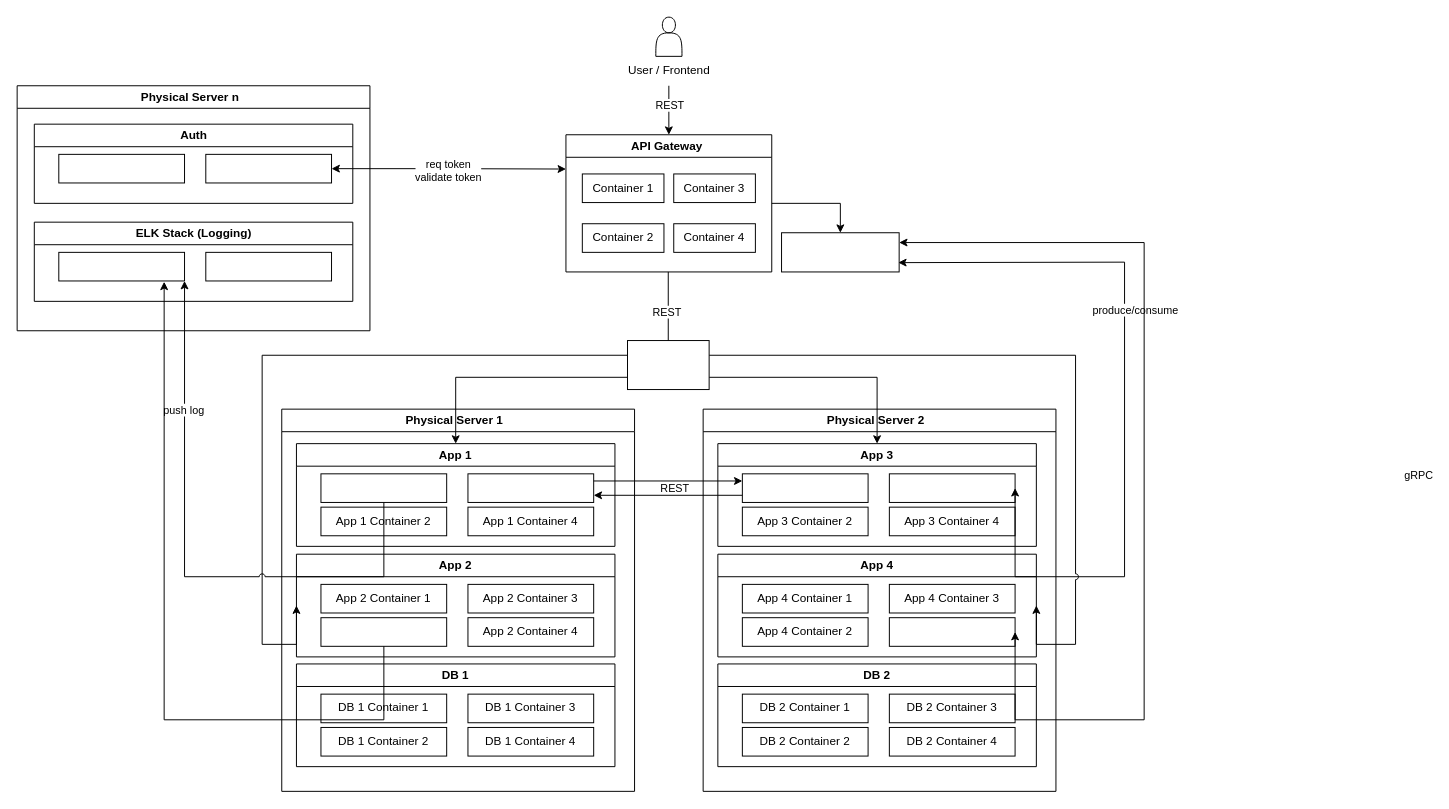
Some shapes in this 1449 by 809 pixel diagram are drawn without their labels. Here are the shapes that lost their labels. From the top down, the centre of each, then its label:
the point at 121,168: Auth Container 1
the point at 268,168: Auth Container 2
the point at 121,266: App Container 1
the point at 268,266: App Container 2
the point at 840,252: rabbitMQ
the point at 668,365: Service Discovery
the point at 383,487: App 1 Container 1
the point at 530,487: App 1 Container 3
the point at 804,487: App 3 Container 1
the point at 951,487: App 3 Container 3
the point at 383,631: App 2 Container 2
the point at 951,631: App 4 Container 4
